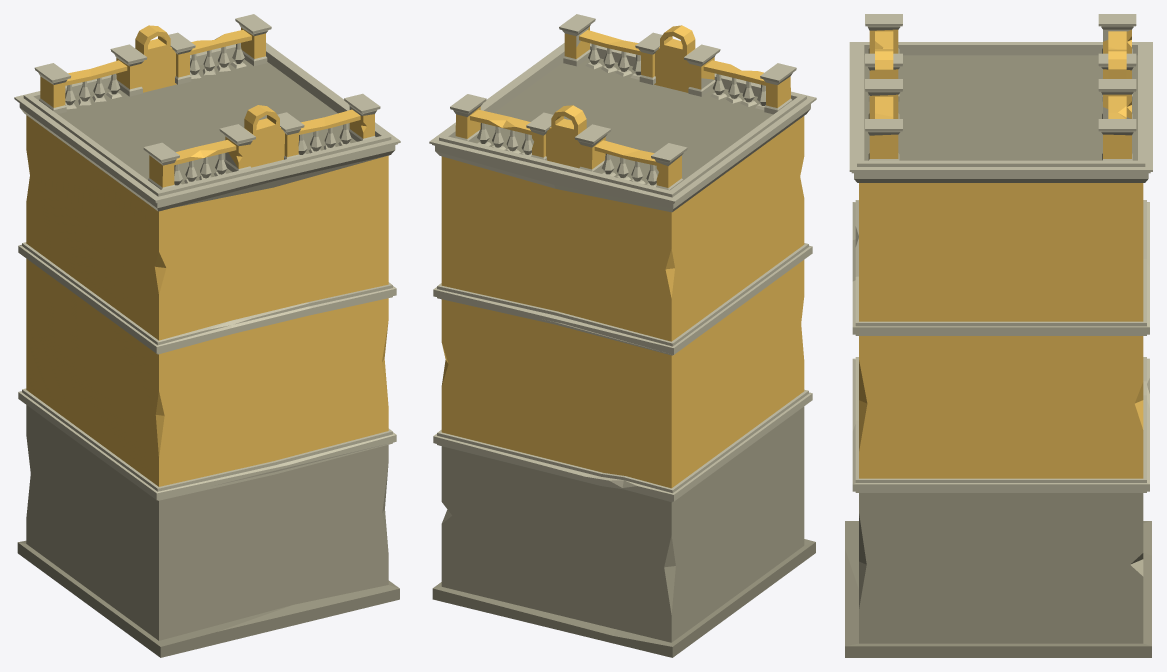
Rendered from BuildingBase_5.fbx.
3 views of the same model, side by side, from view 1: azimuth 30°, elevation 25°; view 2: azimuth 150°, elevation 25°; view 3: azimuth 270°, elevation 25° (orthographic). The views are drawn at different scales.
Parts seen in each view (by area): view 1: BuildingBase_5; view 2: BuildingBase_5; view 3: BuildingBase_5.
Part boxes in pixels (x1,y1,x2,y2): BuildingBase_5: [14, 14, 400, 657]; BuildingBase_5: [429, 14, 816, 657]; BuildingBase_5: [845, 14, 1152, 657].
Size of the model in its own units: 587 by 1161 by 596.
